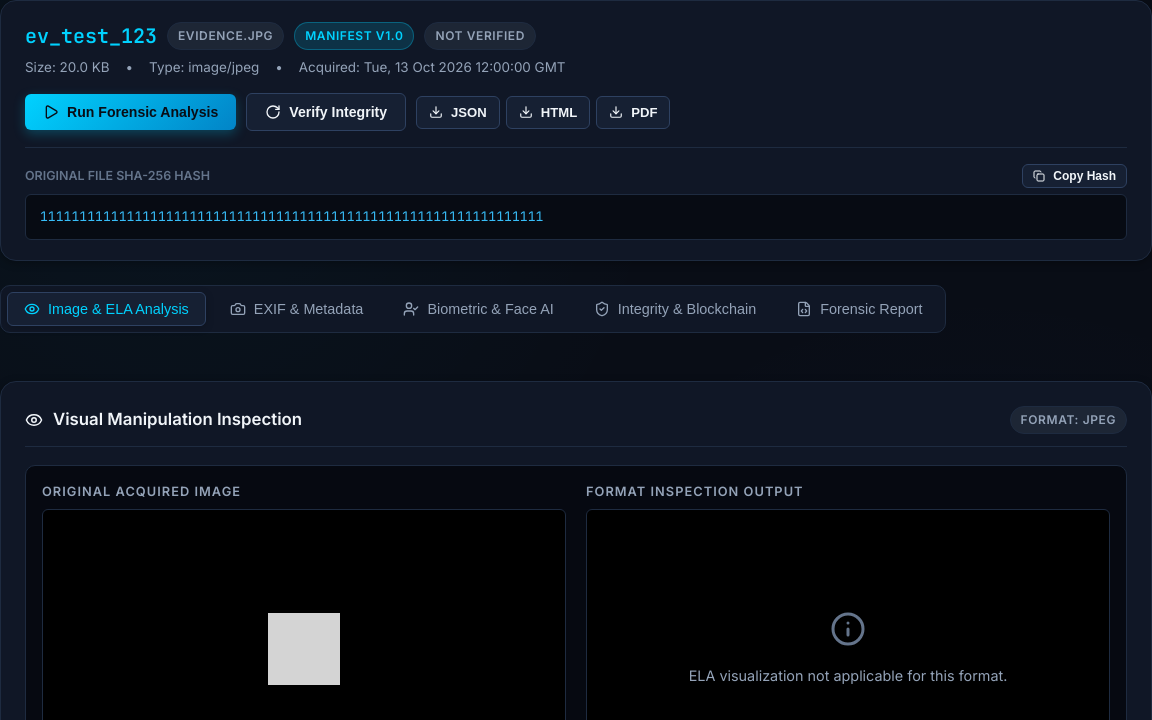
Scenario: Integrity Display & Visual Indicators › renders red badge and warning when local file hash is mismatched (tamper detected)
Click the button "Verify Integrity": [326, 112] box top-left (246, 93), bottom-right (406, 131)
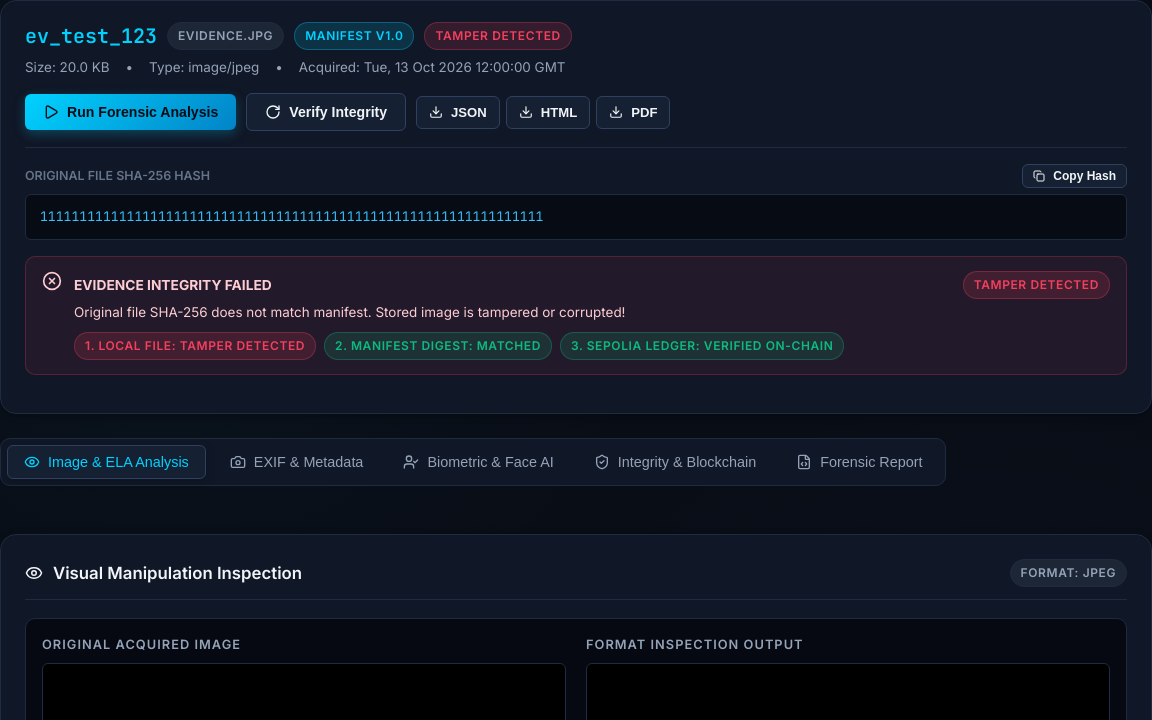
Result: the text "EVIDENCE INTEGRITY FAILED" is shown at top-left (74, 274), bottom-right (272, 295)
Result: the text "Original file SHA-256 does not match manifest" is shown at top-left (74, 304), bottom-right (626, 320)
